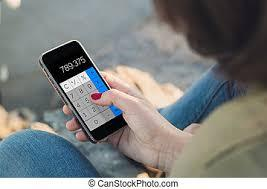Calculator: (55, 53, 126, 132)
